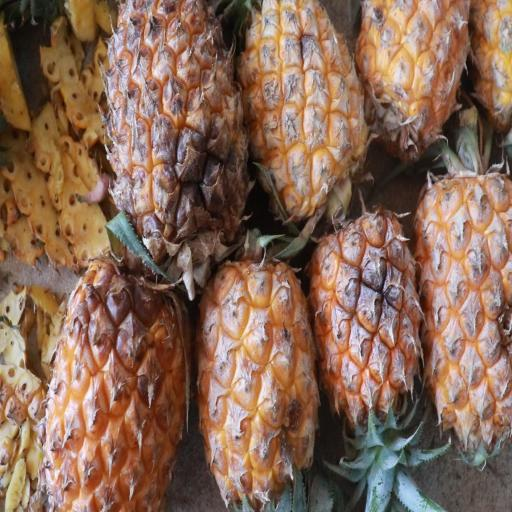Pineapple - v8 v1: (41, 214, 193, 509), (103, 0, 251, 259), (193, 237, 325, 511), (416, 149, 512, 468), (237, 4, 373, 224), (304, 198, 422, 426), (356, 0, 476, 128)
